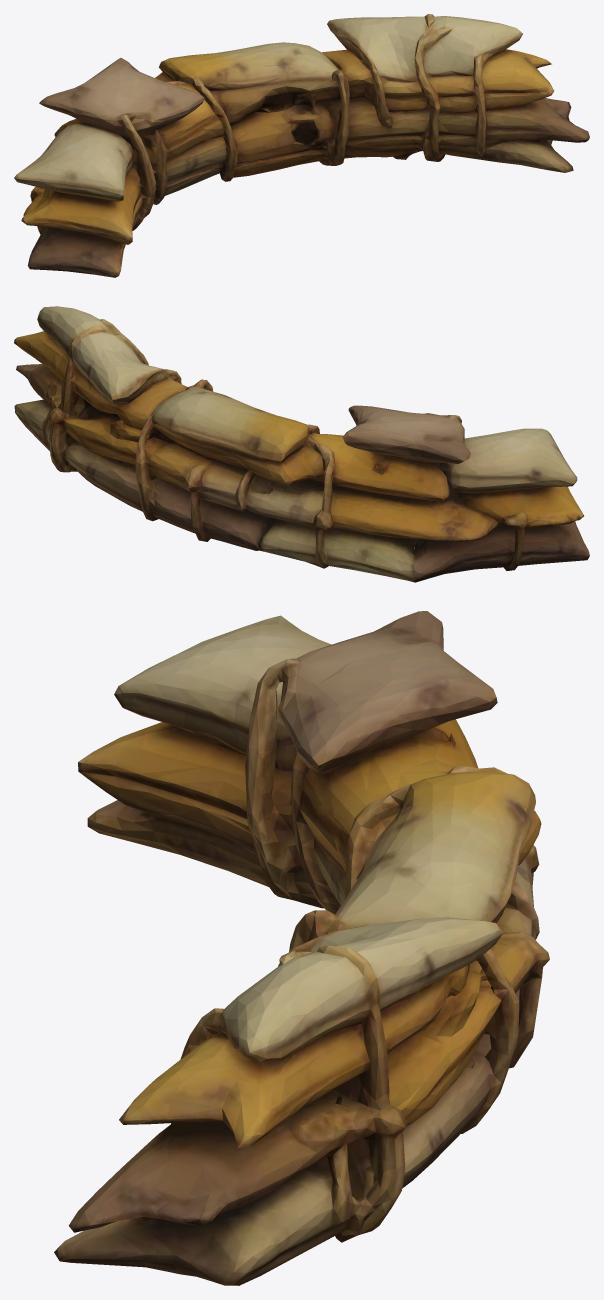
File: sandbags.glb
The picture shows the model from 3 angles, top to bottom: view 1: azimuth 30°, elevation 25°; view 2: azimuth 150°, elevation 25°; view 3: azimuth 270°, elevation 25°; orthographic projection. The views are drawn at different scales.
Visible parts, largest first — view 1: geometry_0; view 2: geometry_0; view 3: geometry_0.
Boxes of the visible parts, x1=… form: geometry_0: x1=14, y1=14, x2=589, y2=277; geometry_0: x1=14, y1=306, x2=589, y2=582; geometry_0: x1=54, y1=611, x2=549, y2=1285.
Bounding box in the file's own units: 1 × 0.2448 × 0.4025.
1 material, 1 textured.
